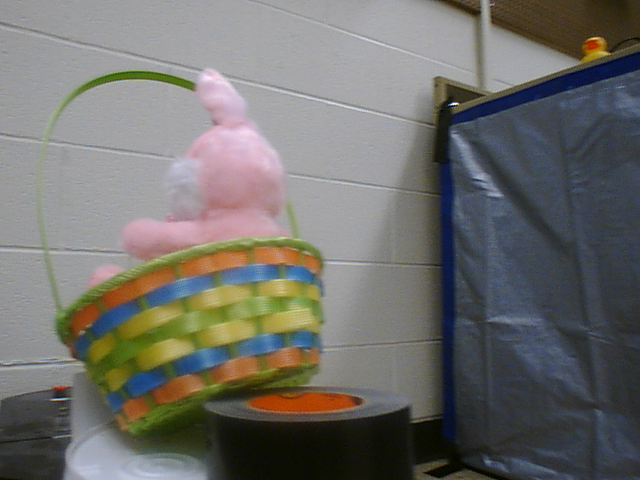bunny: (36, 66, 326, 441)
